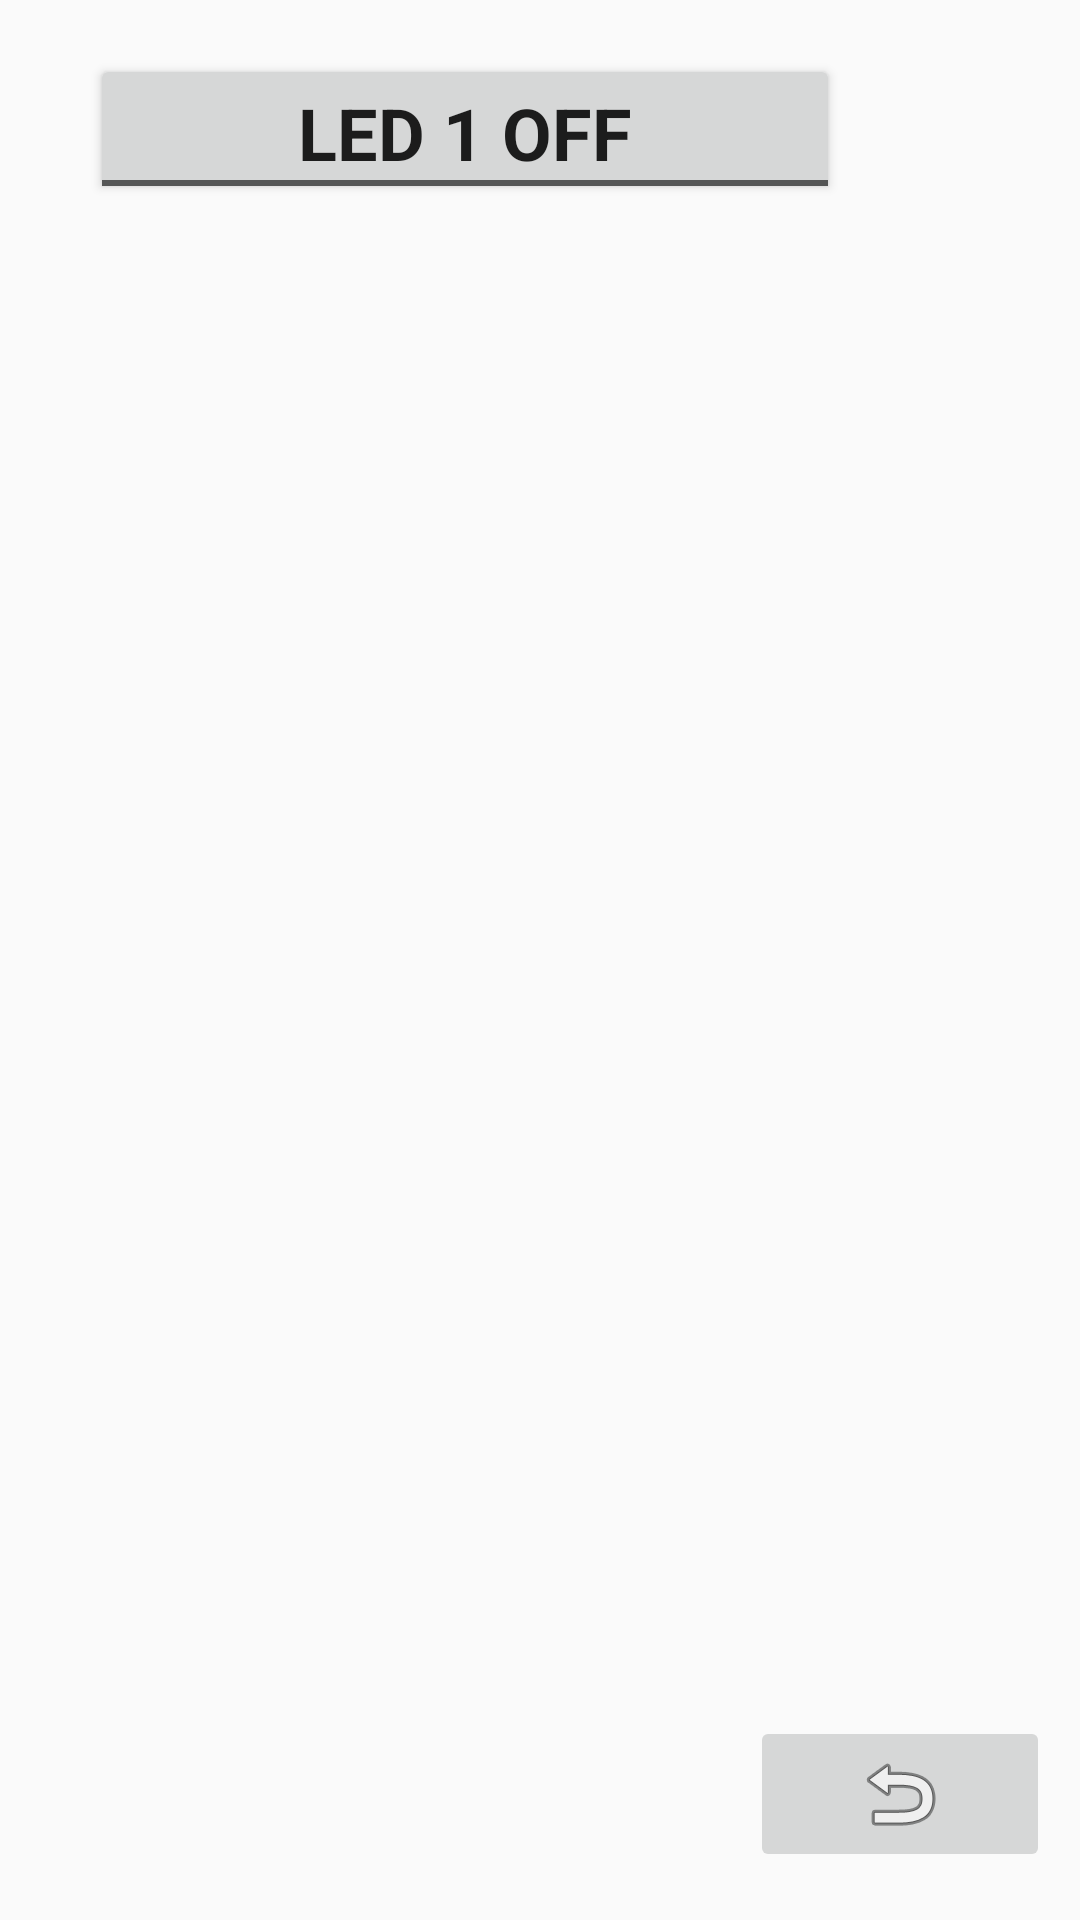

Locate icon controls on the screen. Image size 1080*1920, boxes as (x1, y1, x2, y2).
Voltar: (762, 1734, 1038, 1854)
